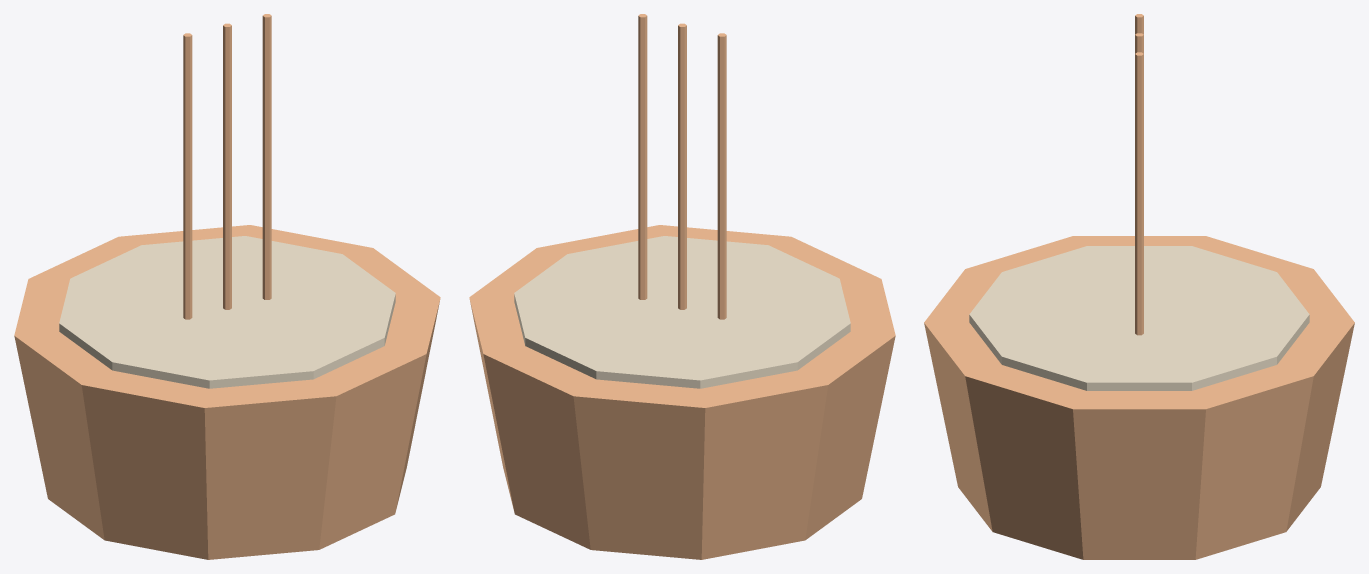
The picture shows the model from 3 angles, left to right: view 1: azimuth 30°, elevation 25°; view 2: azimuth 150°, elevation 25°; view 3: azimuth 270°, elevation 25°; orthographic projection.
Visible parts, largest first — view 1: Bowl, Ash, Incense stick, Incense stick.002, Incense stick.001; view 2: Bowl, Ash, Incense stick, Incense stick.002, Incense stick.001; view 3: Bowl, Ash, Incense stick.002.
Part boxes in pixels (x1=…): Bowl: x1=14, y1=225, x2=440, y2=559; Ash: x1=59, y1=236, x2=395, y2=388; Incense stick: x1=183, y1=33, x2=192, y2=319; Incense stick.002: x1=262, y1=14, x2=271, y2=299; Incense stick.001: x1=223, y1=23, x2=231, y2=309; Bowl: x1=469, y1=225, x2=895, y2=559; Ash: x1=514, y1=236, x2=850, y2=388; Incense stick: x1=717, y1=33, x2=726, y2=319; Incense stick.002: x1=638, y1=14, x2=647, y2=299; Incense stick.001: x1=678, y1=23, x2=686, y2=309; Bowl: x1=924, y1=236, x2=1354, y2=559; Ash: x1=969, y1=246, x2=1309, y2=390; Incense stick.002: x1=1135, y1=52, x2=1143, y2=335.
Size of the model in its own units: 0.3614 by 0.44 by 0.38.
Materials: 1 (1 with a texture image).
